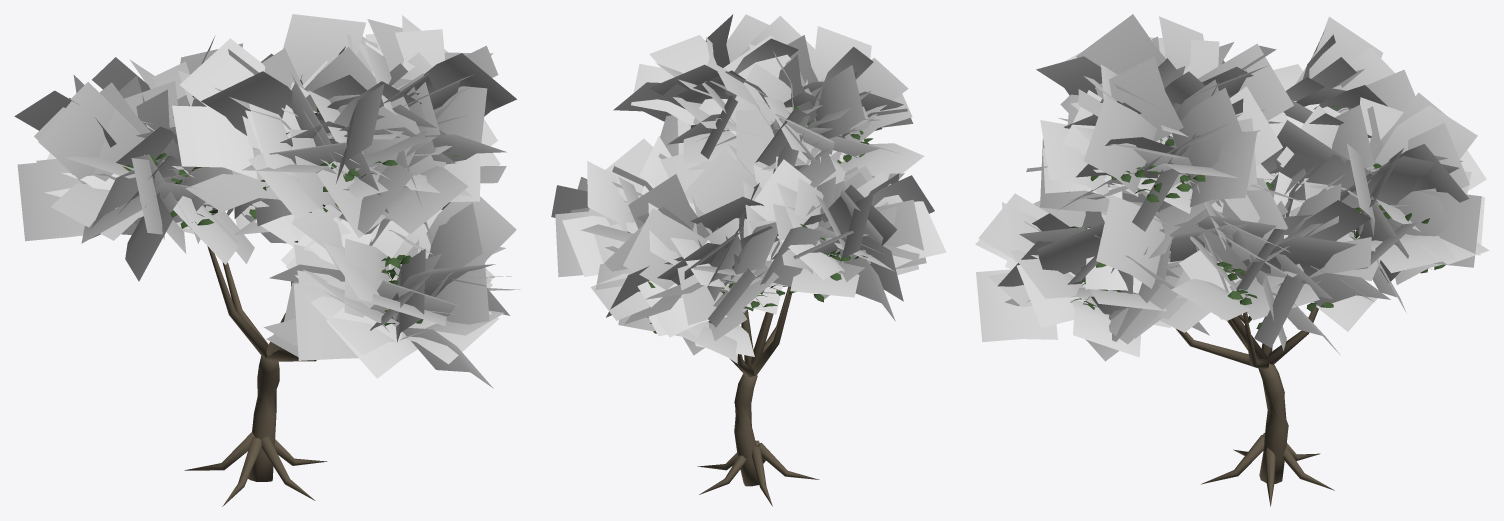
File: CheneVert_Jeune_LOD0.fbx
3 renders of one model, left to right at view 1: azimuth 30°, elevation 25°; view 2: azimuth 150°, elevation 25°; view 3: azimuth 270°, elevation 25°, orthographic. The views are drawn at different scales.
Parts seen in each view (by area): view 1: CheneVert_Jeune; view 2: CheneVert_Jeune; view 3: CheneVert_Jeune.
Part boxes in pixels (x1=…): CheneVert_Jeune: x1=14, y1=14, x2=520, y2=506; CheneVert_Jeune: x1=551, y1=14, x2=946, y2=506; CheneVert_Jeune: x1=975, y1=14, x2=1489, y2=506.
Size of the model in its own units: 429 by 439 by 460.
